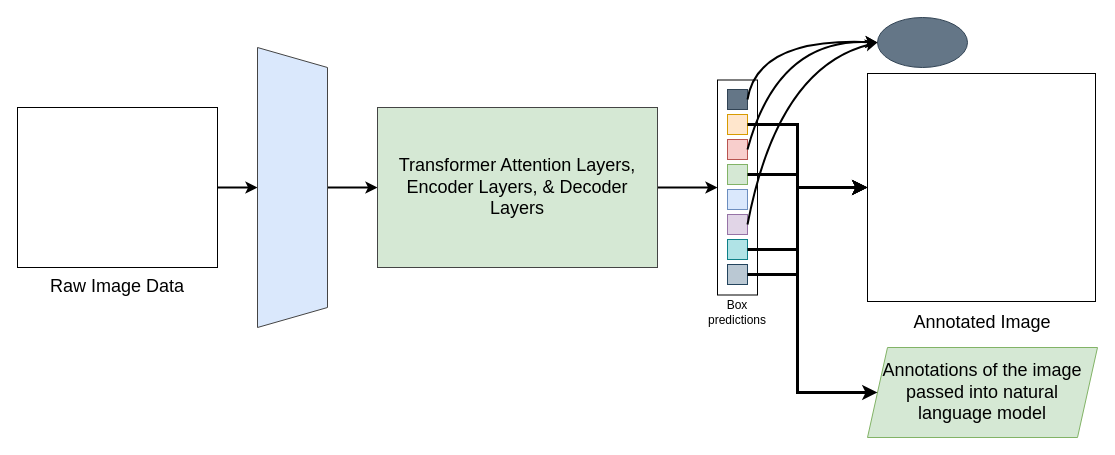
The diagram is 1115 pixels wide and 455 high, and some of its shapes have lost their labels. Here are the shapes that lost their labels. From the top down, the box of each, then its label:
(876, 16, 968, 68): No detection
(256, 46, 328, 328): Convolutional Neural Network Layer
